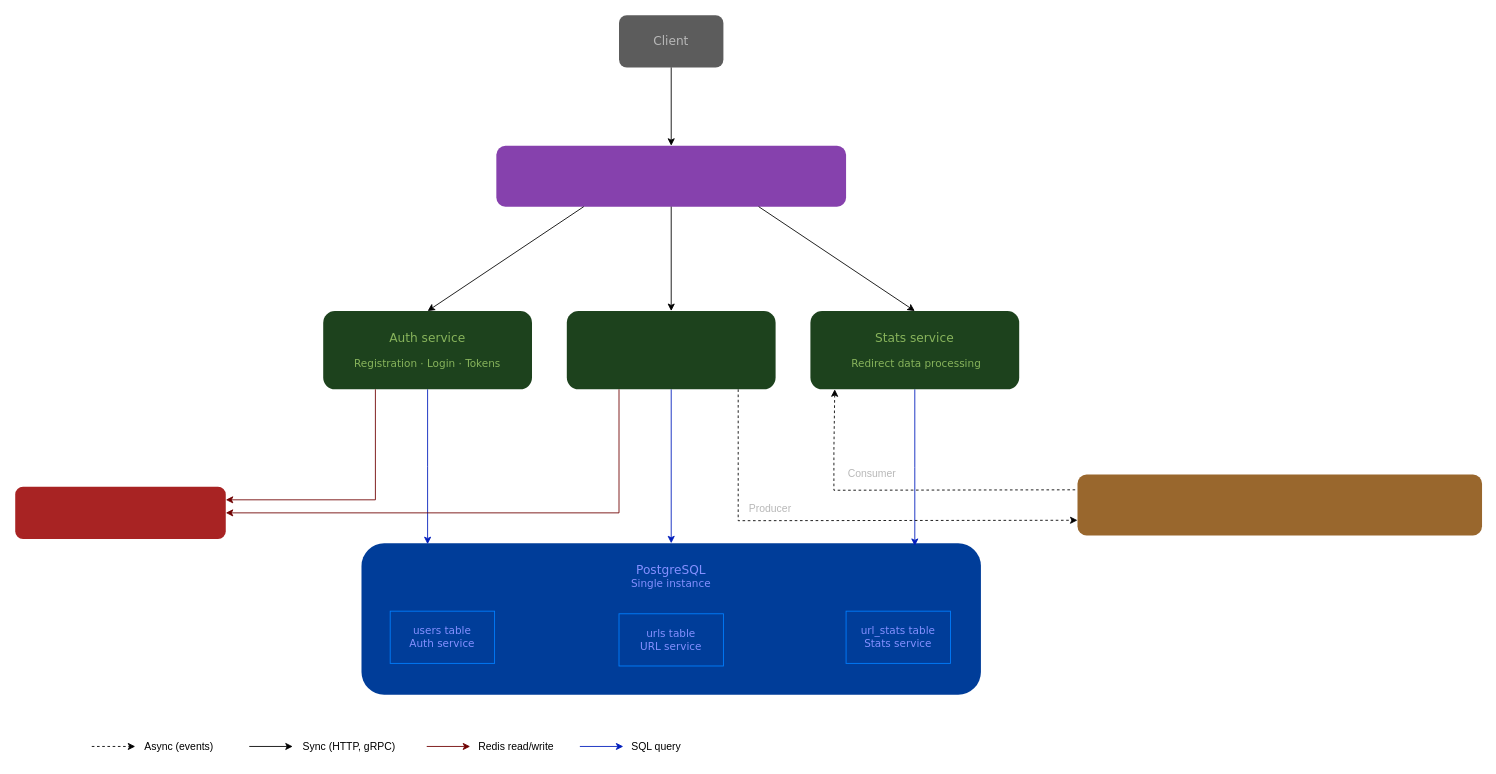
This 1496x774 diagram has some shape labels left out. Here are the shapes that lost their labels. From the top down, the box of each, then its label:
(496, 145, 846, 206): API Gateway Auth · Routing
(566, 311, 775, 389): URL service Slug resolving · Short URL Creation
(15, 486, 225, 539): Redis Refresh tokens · URL cache
(1077, 474, 1482, 535): Message Broker Kafka
